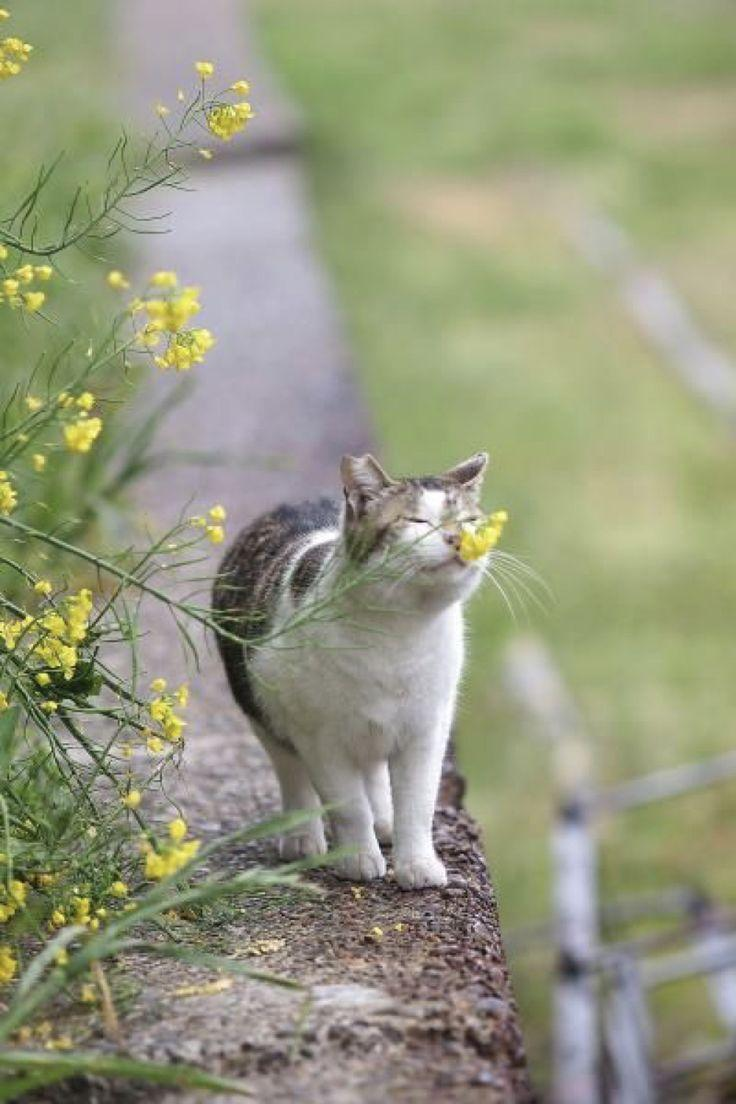kedo: (220, 456, 492, 888)
